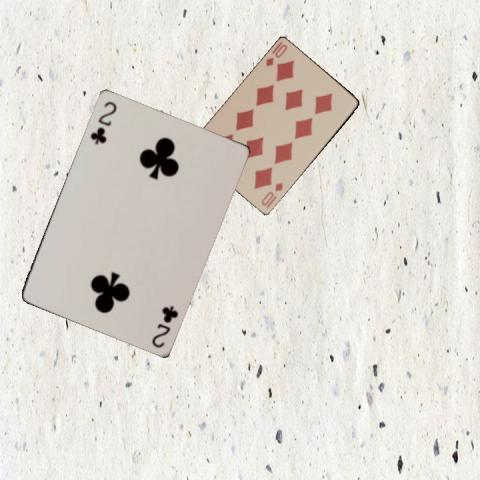10d: (258, 180, 285, 208), (262, 39, 288, 68)
2c: (87, 98, 118, 146), (149, 302, 179, 349)
